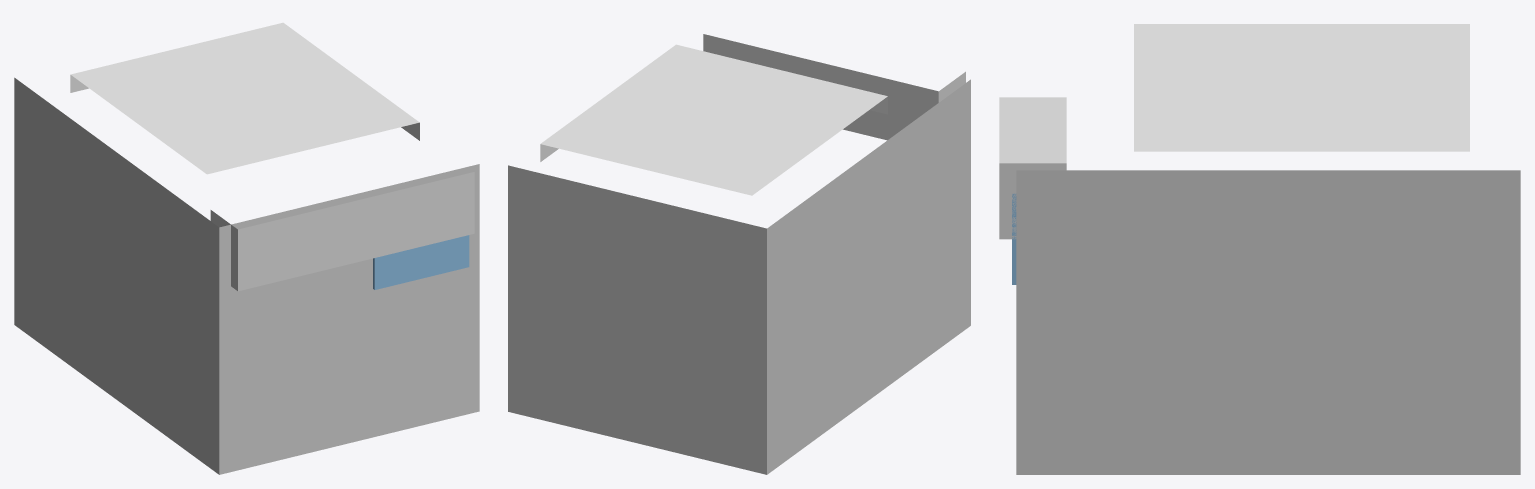
The model's file is printer.glb.
3 renders of one model, left to right at view 1: azimuth 30°, elevation 25°; view 2: azimuth 150°, elevation 25°; view 3: azimuth 270°, elevation 25°, orthographic. The views are drawn at different scales.
Size of the model in its own units: 0.44 by 0.415 by 0.62.
